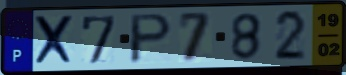2: (273, 8, 308, 62)
7: (176, 11, 216, 65), (79, 13, 118, 66)
8: (229, 11, 265, 63)
P: (127, 11, 175, 66)
X: (31, 14, 77, 68)
